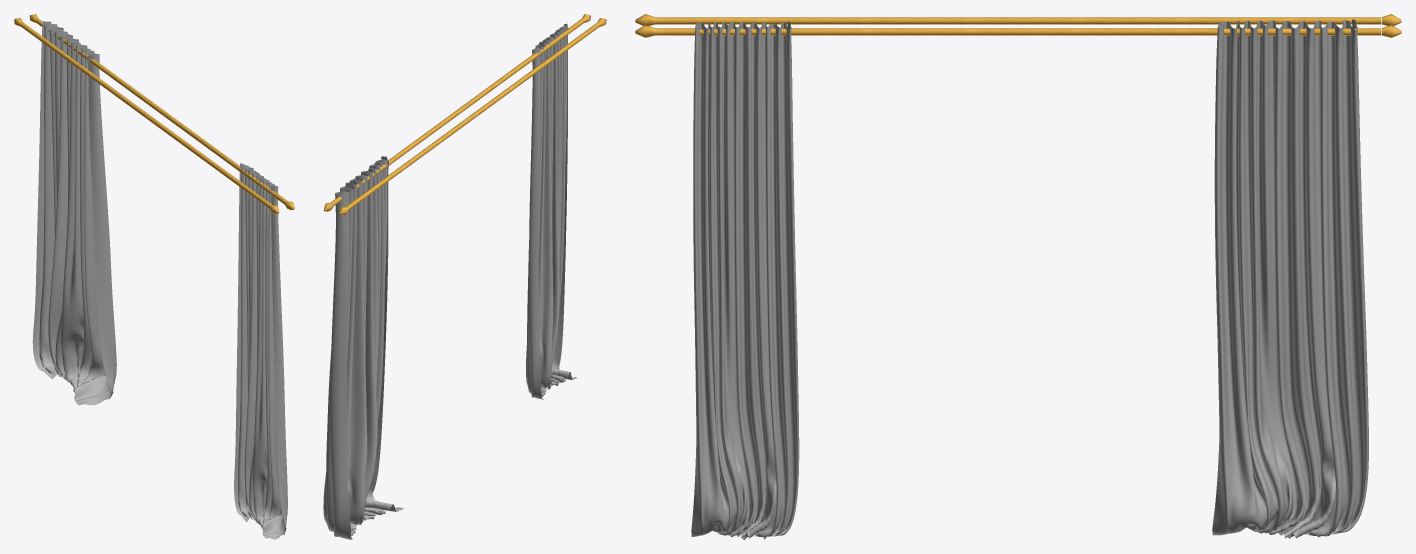
Rendered from tende.fbx.
3 renders of one model, left to right at view 1: azimuth 30°, elevation 25°; view 2: azimuth 150°, elevation 25°; view 3: azimuth 270°, elevation 25°, orthographic. The views are drawn at different scales.
Parts seen in each view (by area): view 1: instance_5, instance_10, group_3, group_2; view 2: instance_5, instance_10, group_3, group_2; view 3: instance_5, instance_10, group_3, group_2.
Part boxes in pixels (box(x1,y1,x2,y2)): instance_5: box(32, 21, 116, 405); instance_10: box(234, 163, 287, 539); group_3: box(20, 22, 272, 208); group_2: box(35, 18, 287, 204); instance_5: box(323, 156, 403, 539); instance_10: box(526, 23, 577, 400); group_3: box(346, 22, 600, 209); group_2: box(330, 18, 585, 205); instance_5: box(1212, 19, 1368, 538); instance_10: box(691, 21, 799, 539); group_3: box(655, 17, 1380, 24); group_2: box(655, 28, 1380, 35).
Bounding box in the file's own units: 40.57 × 290 × 390.
